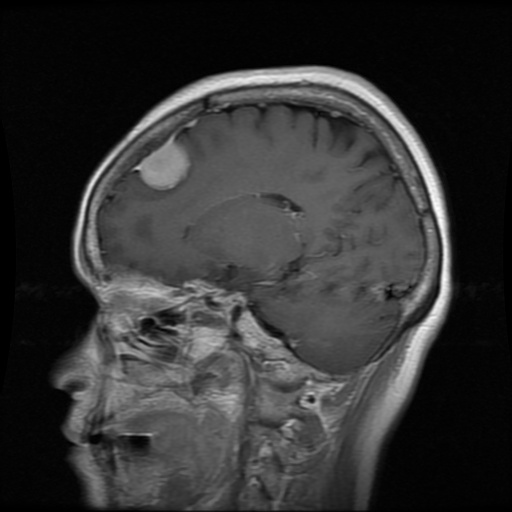meningioma: (138, 139, 190, 190)
